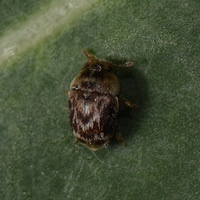insect: (68, 50, 132, 149)
